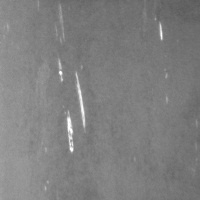scratches: (57, 58, 89, 154), (152, 15, 168, 44)
